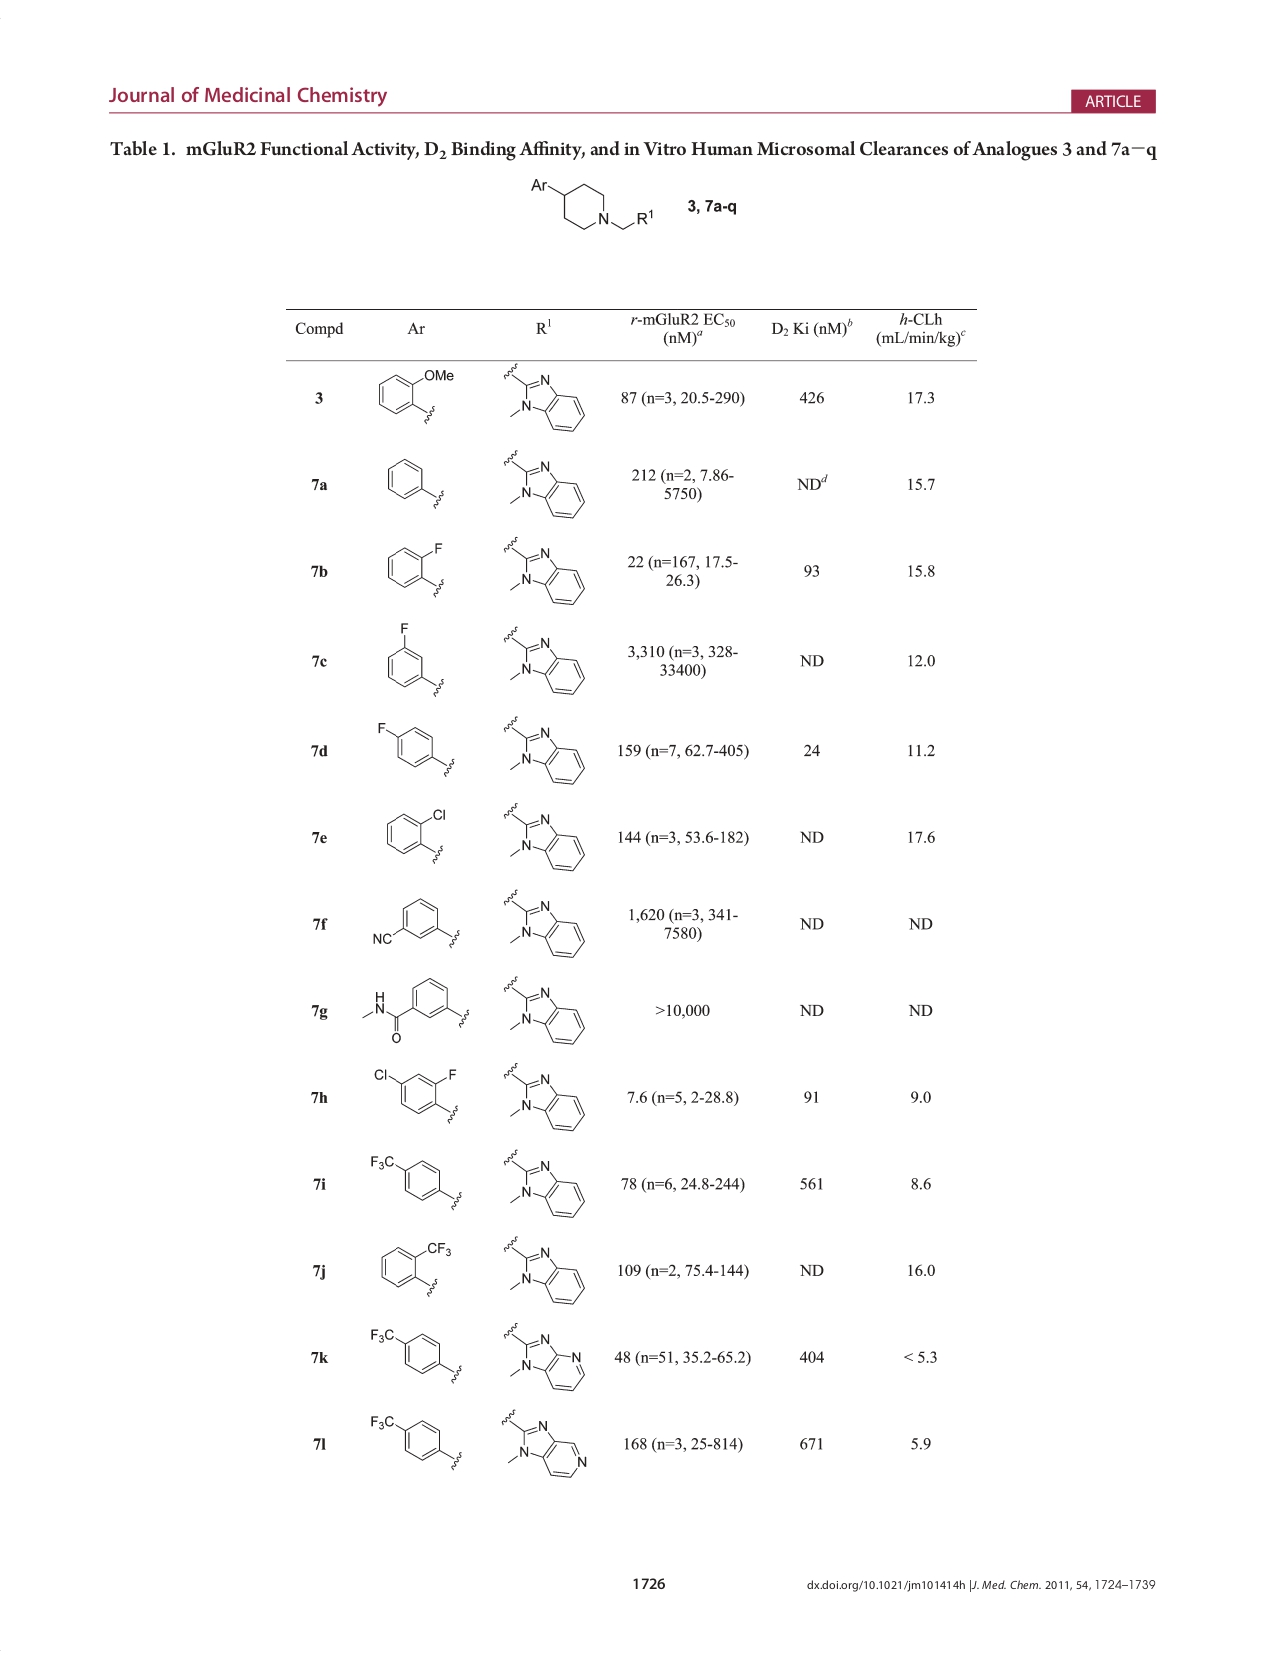exist_molecular: (517, 173, 656, 237), (356, 976, 471, 1043), (499, 360, 586, 438), (500, 1145, 589, 1221), (501, 1318, 586, 1396), (499, 622, 586, 698), (501, 447, 586, 524), (500, 711, 586, 787), (499, 972, 586, 1047), (497, 1407, 586, 1480), (501, 535, 586, 610), (501, 1233, 586, 1309), (366, 1321, 467, 1384), (364, 1149, 463, 1214), (367, 1408, 465, 1474), (501, 1061, 586, 1134), (500, 888, 586, 960), (501, 801, 586, 872), (372, 1061, 465, 1124), (374, 715, 460, 779), (371, 364, 459, 426), (372, 894, 463, 950), (384, 617, 445, 700), (376, 1237, 456, 1299), (383, 536, 449, 598), (382, 805, 447, 864), (384, 453, 448, 512)
